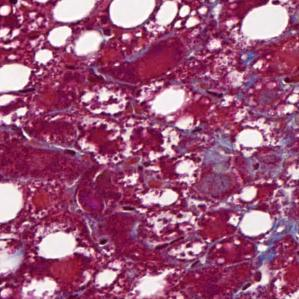steatosis: (236, 0, 293, 45), (107, 0, 155, 29), (149, 82, 189, 116), (37, 230, 78, 262), (240, 205, 274, 240)
